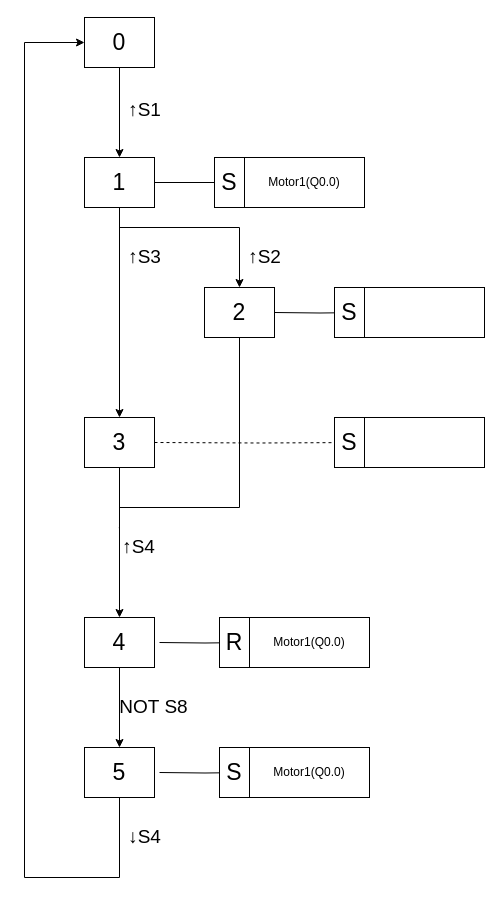
Some shapes in this 502 by 903 pixel diagram are drawn without their labels. The shapes that lost their labels are listed below. From the top down, each one's box as (x1, y1, x2, y2) in pixels, then its label:
(364, 286, 484, 338): Caixa Grande
(364, 416, 484, 468): Caixa Média
